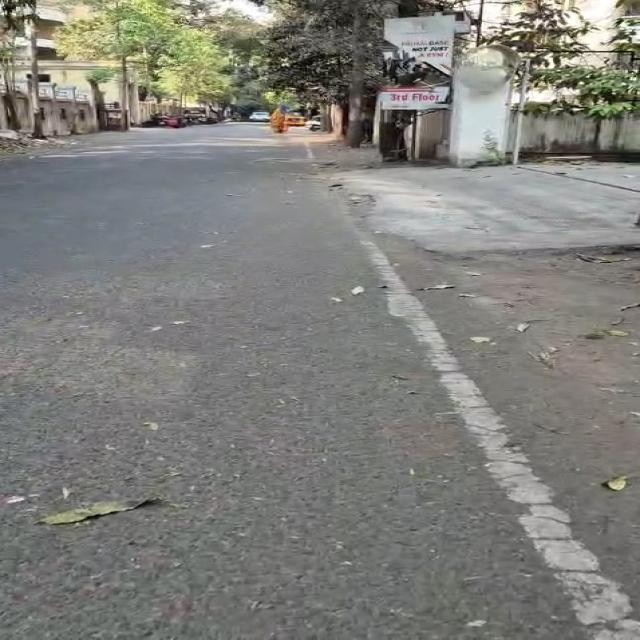tree_trunk: (346, 0, 366, 148), (29, 19, 44, 138), (2, 83, 20, 131), (121, 56, 129, 131)
